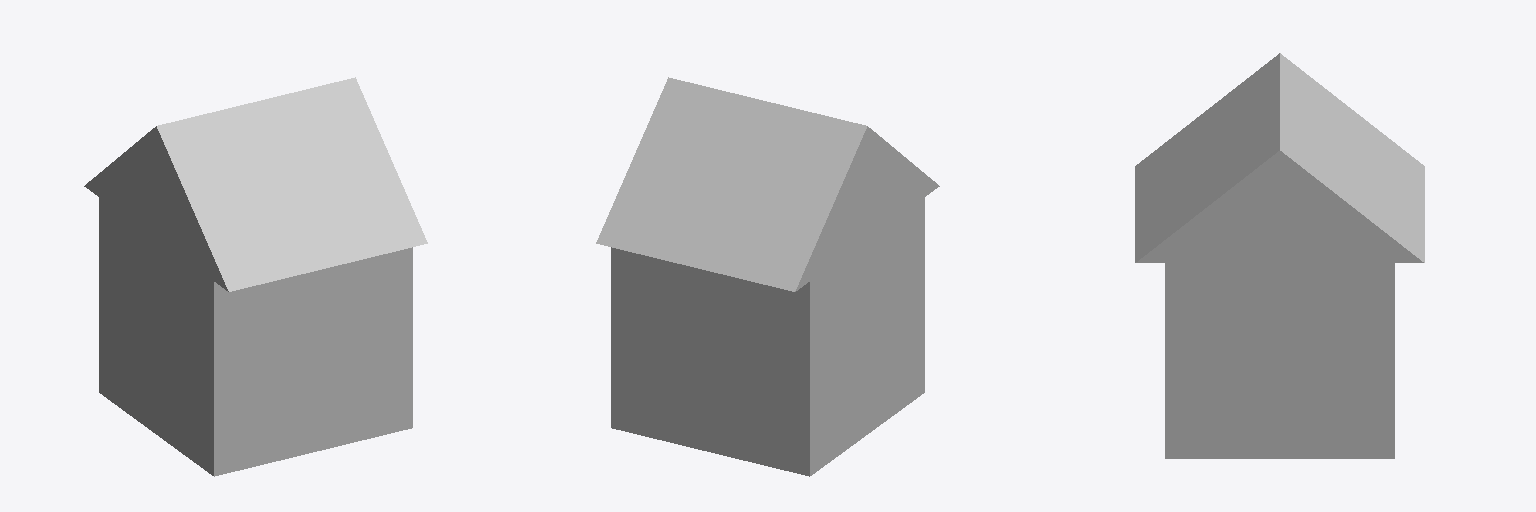
The model's file is house1.obj.
The picture shows the model from 3 angles: view 1: azimuth 30°, elevation 25°; view 2: azimuth 150°, elevation 25°; view 3: azimuth 270°, elevation 25°; orthographic projection.
Parts seen in each view (by area): view 1: Cube1; view 2: Cube1; view 3: Cube1.
Boxes of the visible parts, <box> form: Cube1: <box>84,77,427,476</box>; Cube1: <box>596,77,939,476</box>; Cube1: <box>1135,53,1424,458</box>.
Bounding box in the file's own units: 16 × 23.69 × 20.16.